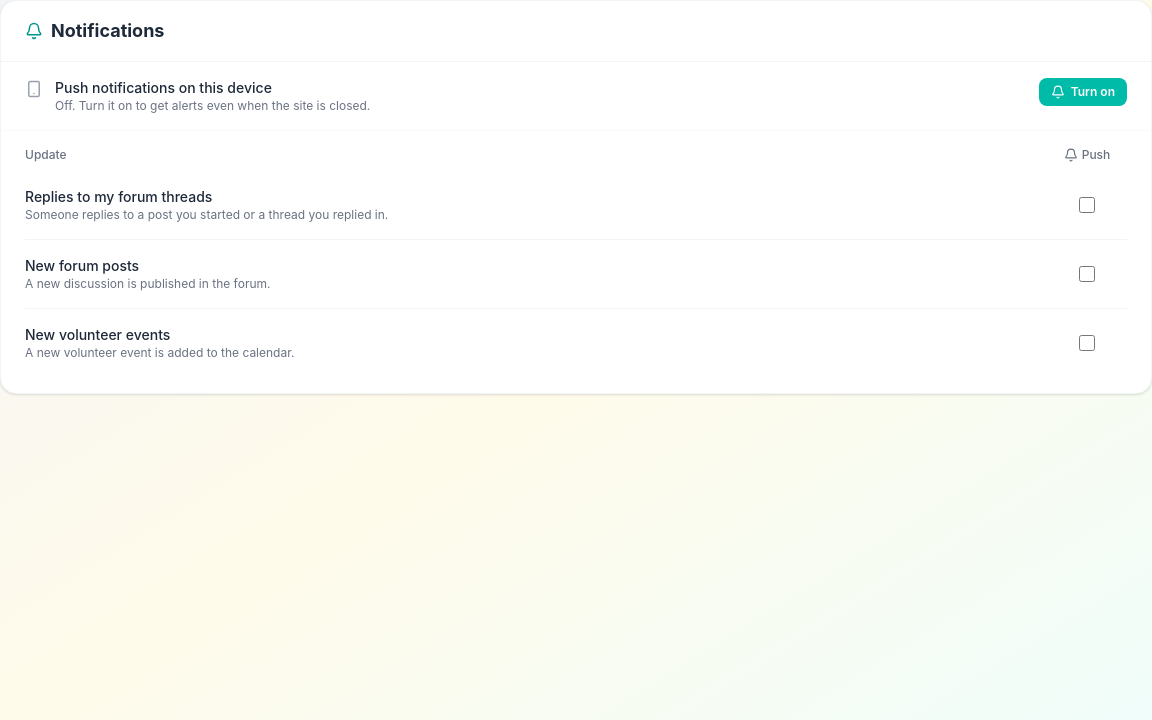
Test: NotificationSettings › turns push on for this device from a click
The width and height of the screenshot is (1152, 720).
Click the button "Turn on": coordinates (1083, 92) [1039,78,1127,106]
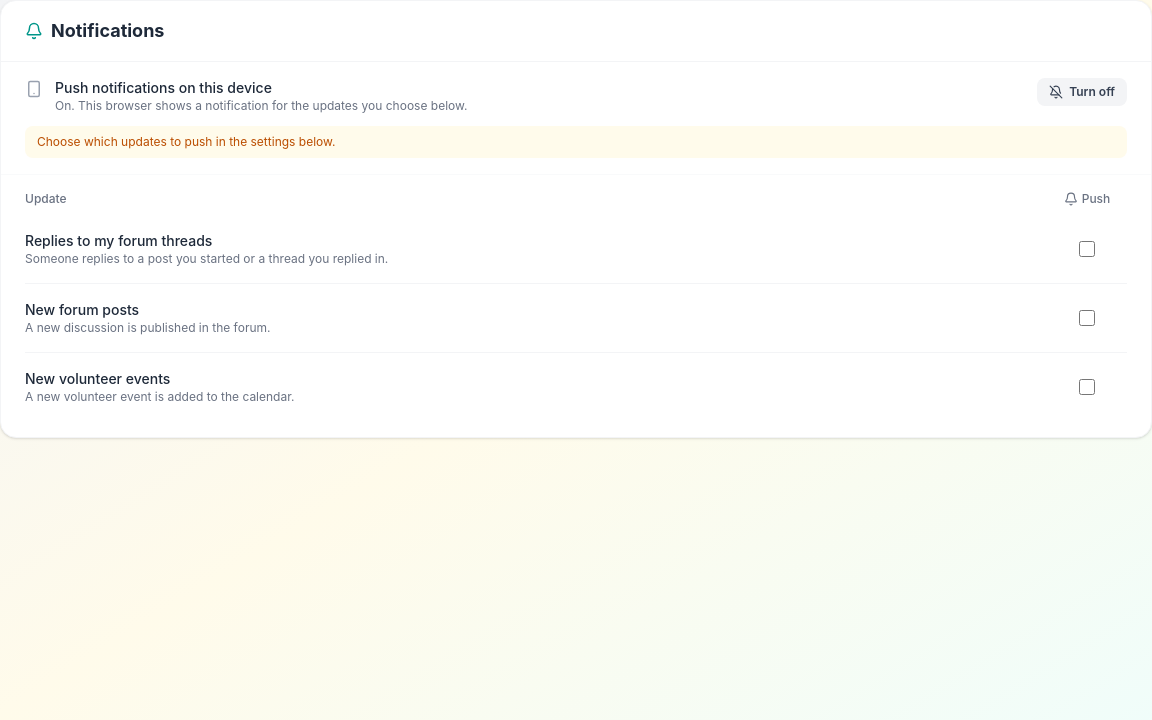
Check: the button "Turn off" is shown, box [1037,78,1127,106]
Check: the text "Choose which updates to push in the settings below." is shown, box [25,126,1127,158]
